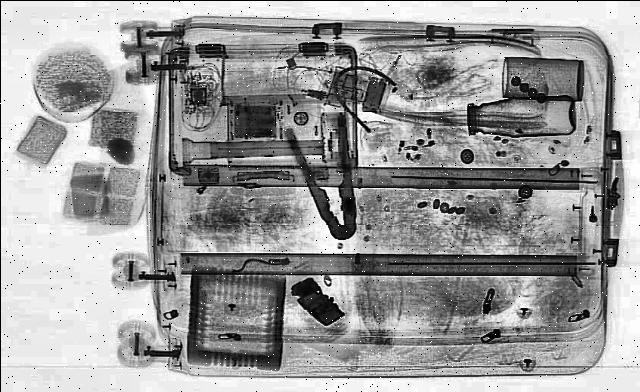Pliers: (274, 114, 380, 242)
